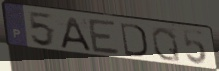5: (26, 10, 57, 48), (181, 27, 209, 67)
A: (59, 16, 94, 53)
D: (119, 21, 149, 59)
E: (86, 17, 122, 57)
Q: (150, 25, 183, 64)
